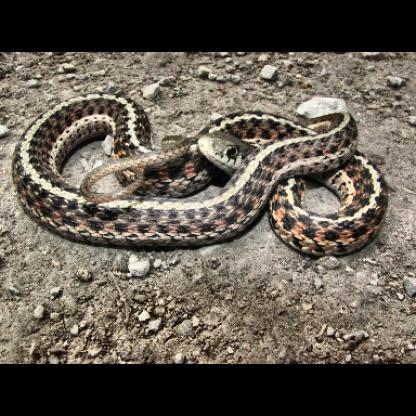Snake: (9, 91, 388, 258)
